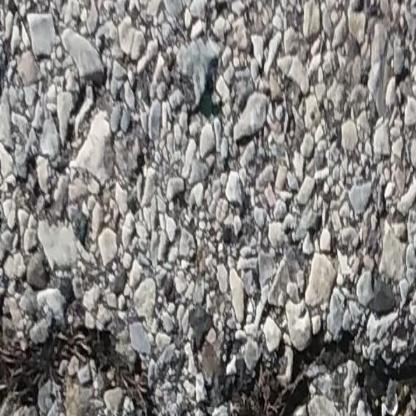Cracks: (0, 294, 178, 416), (192, 325, 416, 416)
